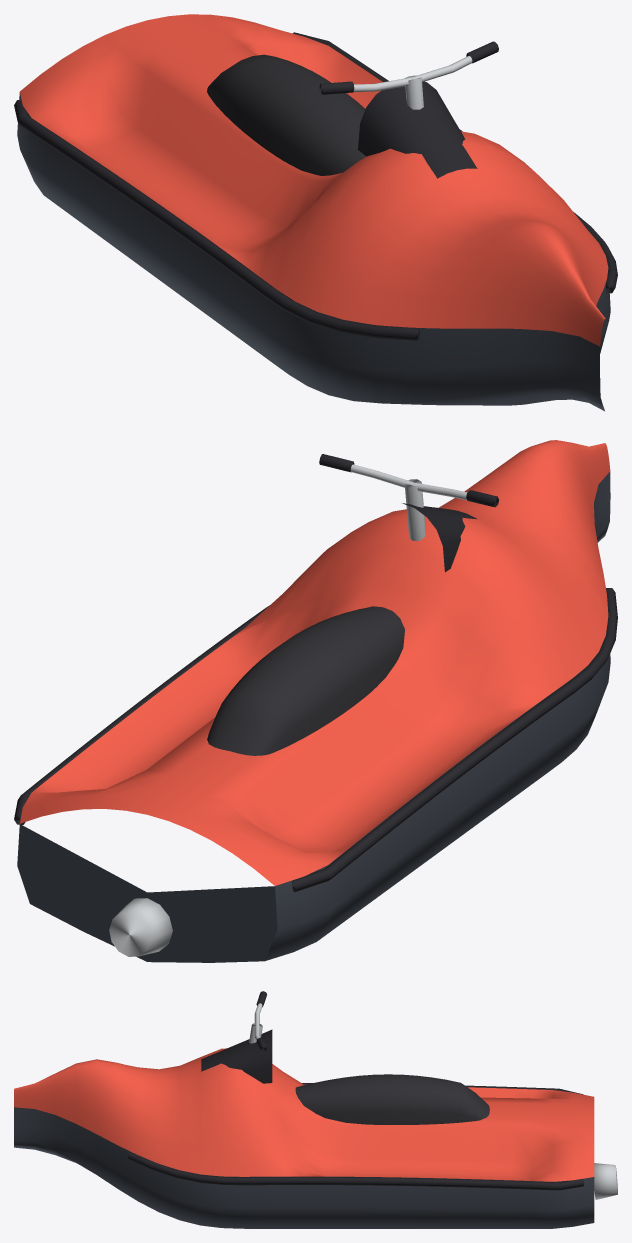
Rendered from craft.glb.
3 views of the same model, one above another, from view 1: azimuth 30°, elevation 25°; view 2: azimuth 150°, elevation 25°; view 3: azimuth 270°, elevation 25° (orthographic). The views are drawn at different scales.
Visible parts, largest first — view 1: Hull, Bars; view 2: Hull, Bars; view 3: Hull, Bars.
Boxes of the visible parts, x1,y1,x2,y2 form: Hull: (14, 14, 617, 411); Bars: (319, 41, 498, 109); Hull: (14, 440, 617, 962); Bars: (319, 454, 498, 540); Hull: (14, 1029, 617, 1228); Bars: (249, 991, 266, 1051).
Size of the model in its own units: 1.23 by 1.1 by 3.23.
